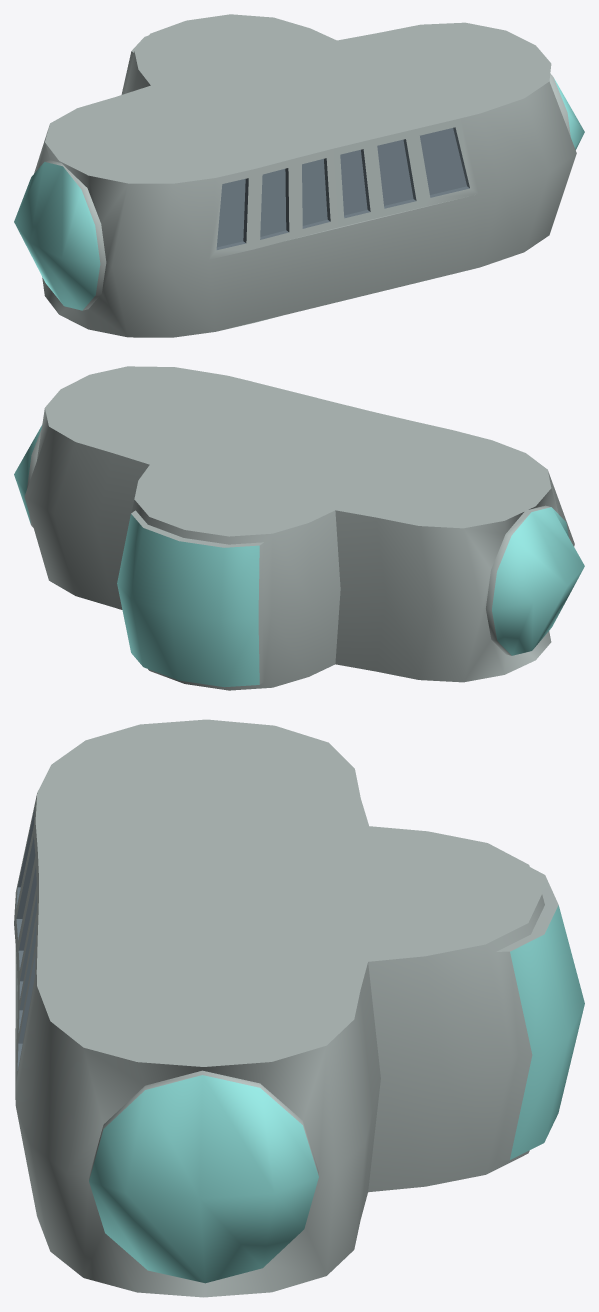
The model's file is Hab_Interior 2.fbx.
3 views of the same model, one above another, from view 1: azimuth 30°, elevation 25°; view 2: azimuth 150°, elevation 25°; view 3: azimuth 270°, elevation 25° (orthographic). The views are drawn at different scales.
Parts seen in each view (by area): view 1: Habitat.002; view 2: Habitat.002; view 3: Habitat.002.
Boxes of the visible parts, box(x1,y1,x2,y2) form: Habitat.002: box(14, 14, 584, 337); Habitat.002: box(14, 366, 584, 690); Habitat.002: box(14, 719, 584, 1297).
Bounding box in the file's own units: 891 × 244 × 548.
